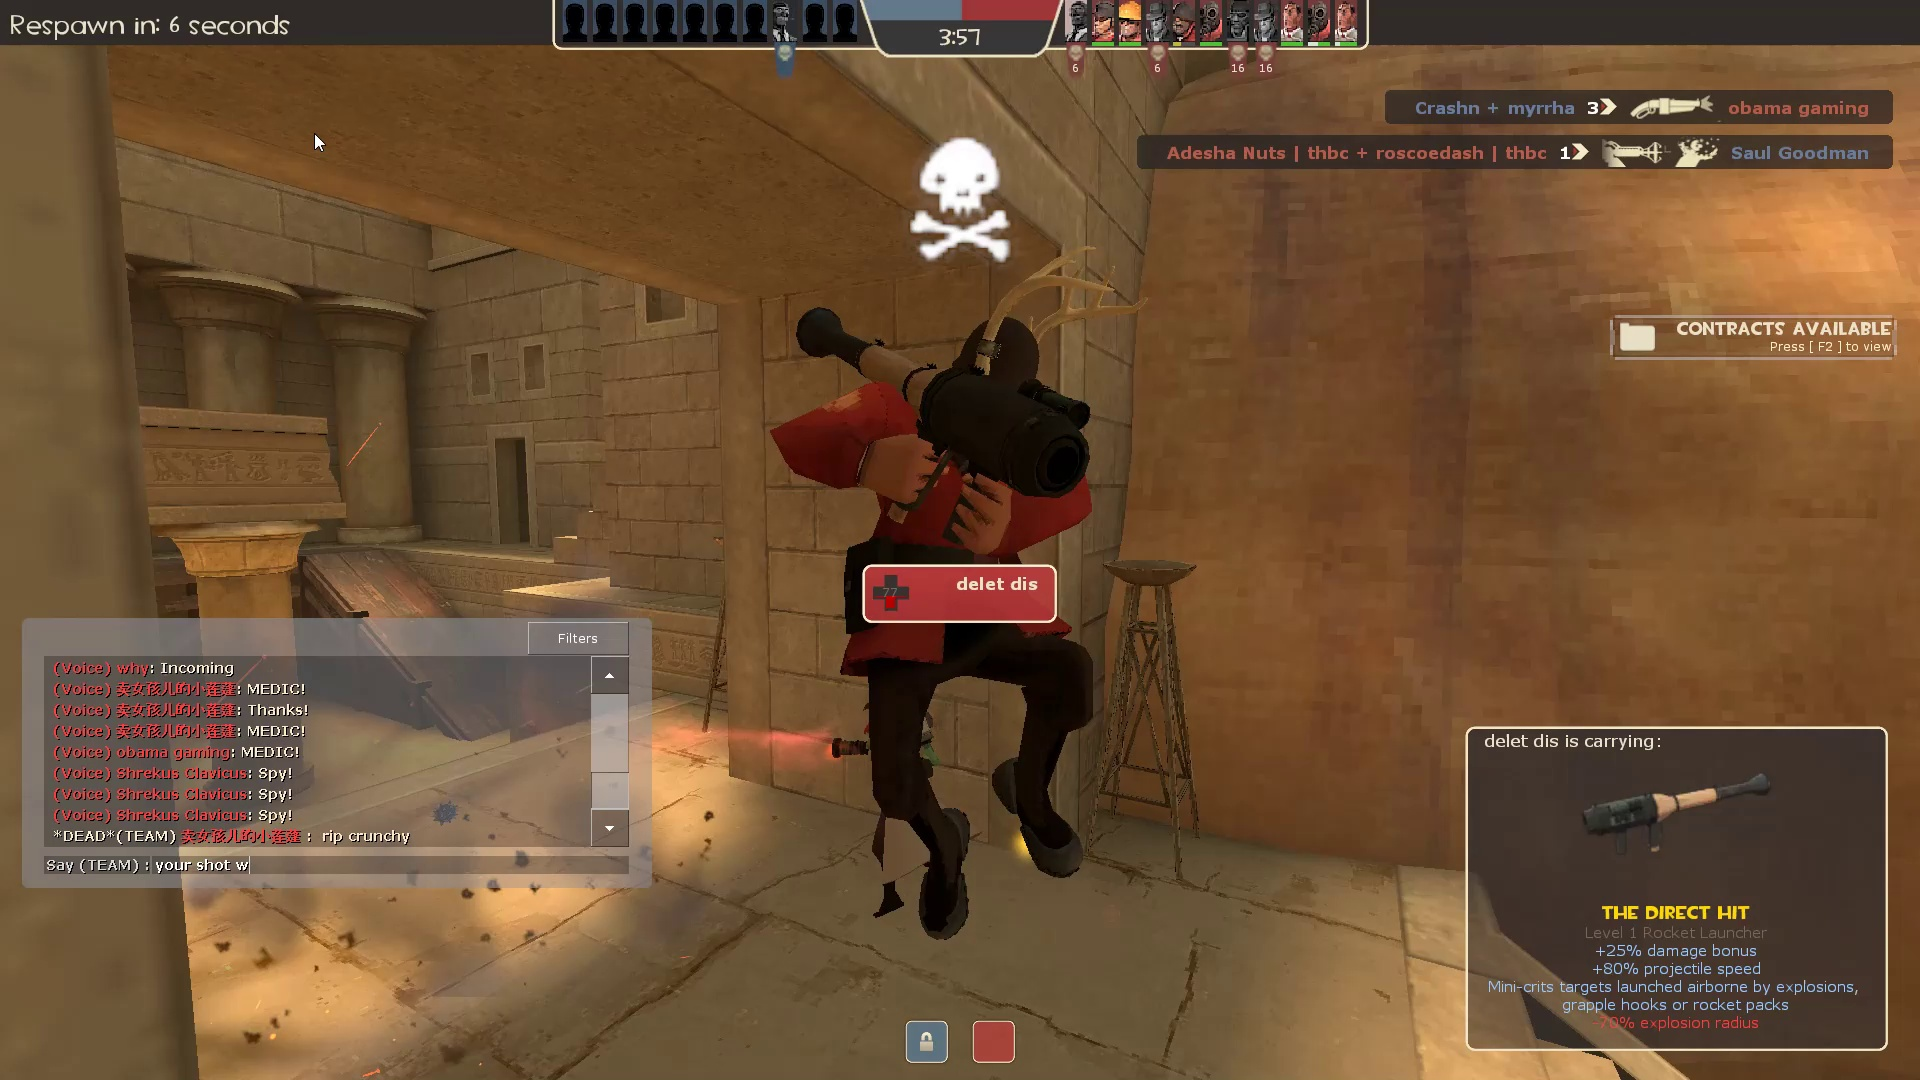red_medic: (823, 673, 964, 924)
red_soldier: (753, 276, 1101, 948)
